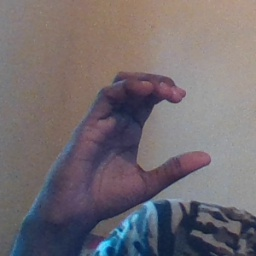C: (102, 67, 217, 194)
